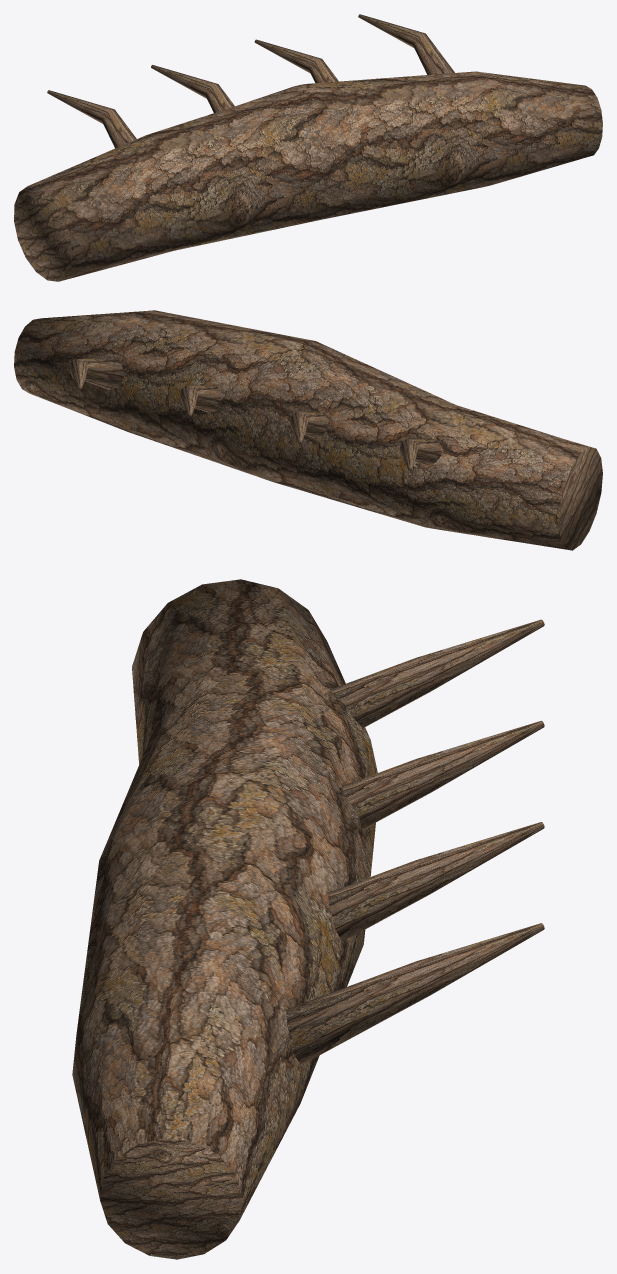
The model's file is Autumn_FallenTimber.fbx.
3 views of the same model, one above another, from view 1: azimuth 30°, elevation 25°; view 2: azimuth 150°, elevation 25°; view 3: azimuth 270°, elevation 25° (orthographic). The views are drawn at different scales.
Visible parts, largest first — view 1: FallenTimber_Wood; view 2: FallenTimber_Wood; view 3: FallenTimber_Wood.
Part boxes in pixels (x1,y1,x2,y2): FallenTimber_Wood: [14, 14, 602, 281]; FallenTimber_Wood: [14, 310, 602, 550]; FallenTimber_Wood: [72, 579, 544, 1259].
Bounding box in the file's own units: 519 × 118 × 197.
